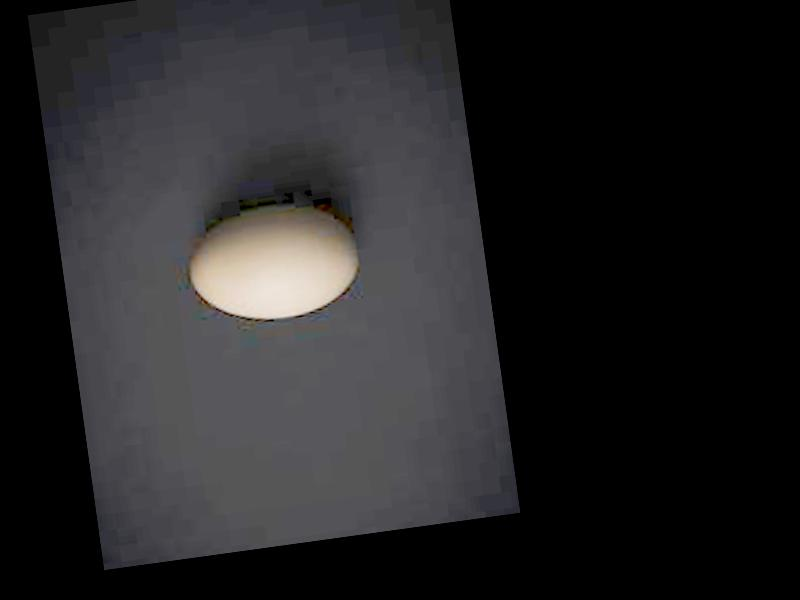Eggs: (179, 199, 367, 329)
